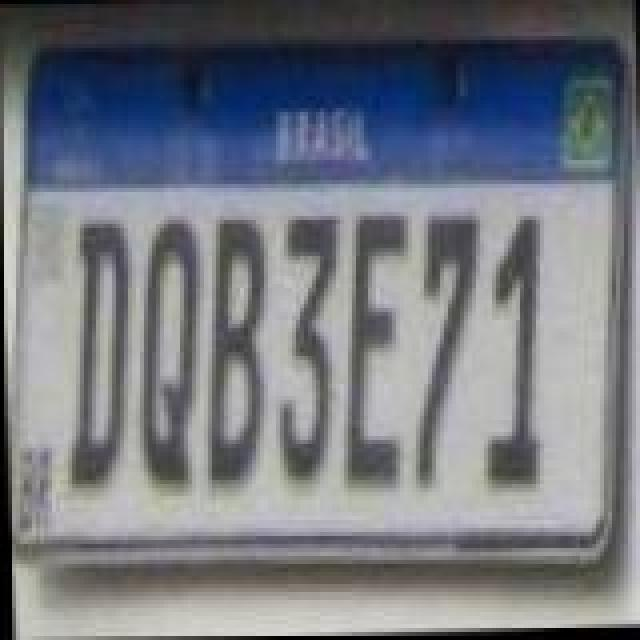1: (476, 216, 548, 484)
3: (270, 214, 346, 482)
7: (404, 218, 484, 486)
B: (198, 218, 274, 486)
D: (58, 220, 134, 488)
E: (332, 214, 412, 490)
Q: (130, 218, 206, 486)
